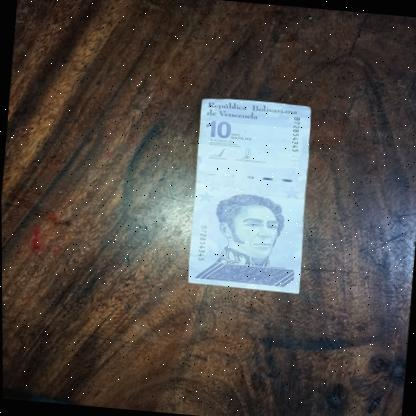vef_front: (185, 96, 316, 294)
